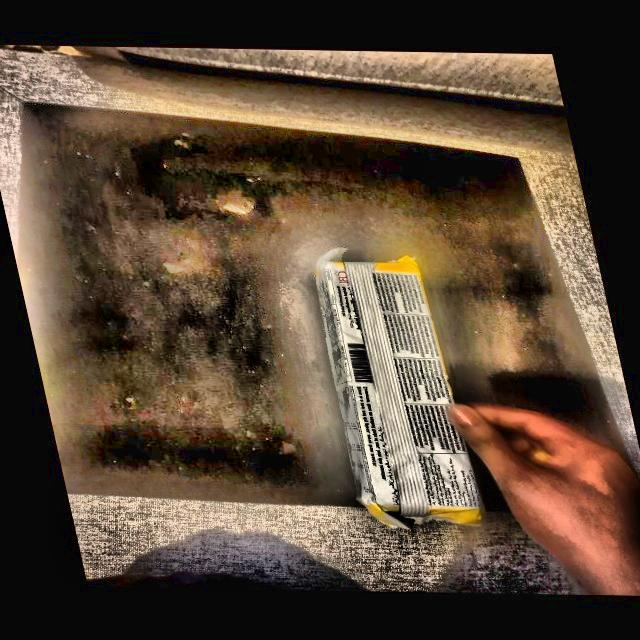lemon puff: (317, 238, 481, 524)
